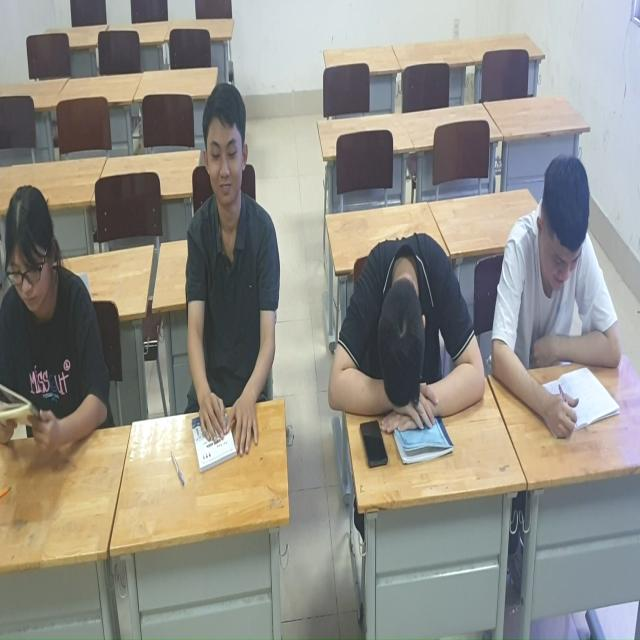read: (485, 126, 635, 431), (180, 78, 284, 477), (1, 184, 128, 482)
sleep: (329, 212, 479, 439)
